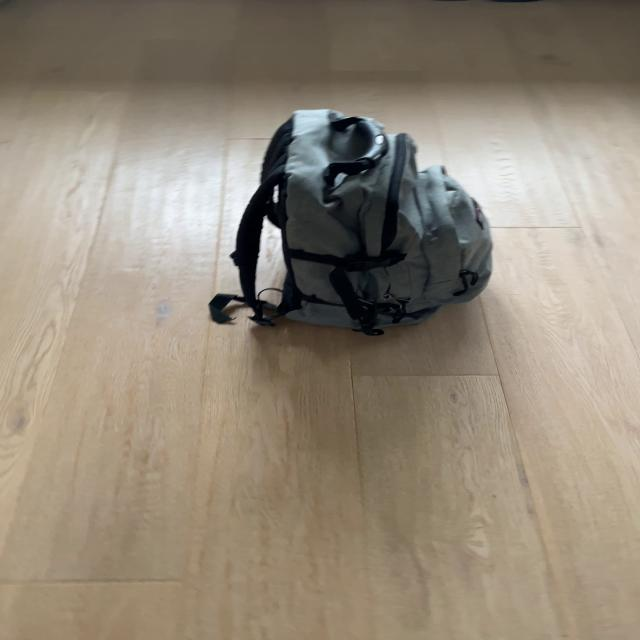backpack: (232, 101, 506, 339)
